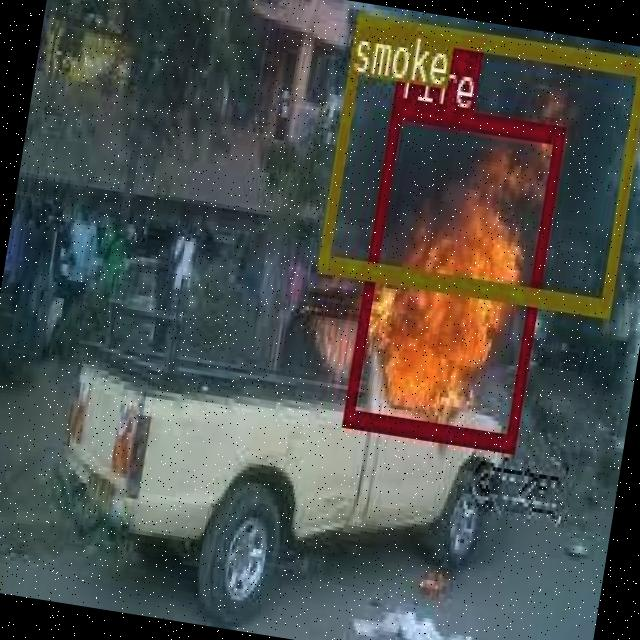fire: (341, 96, 564, 448)
smoke: (315, 11, 640, 314)
